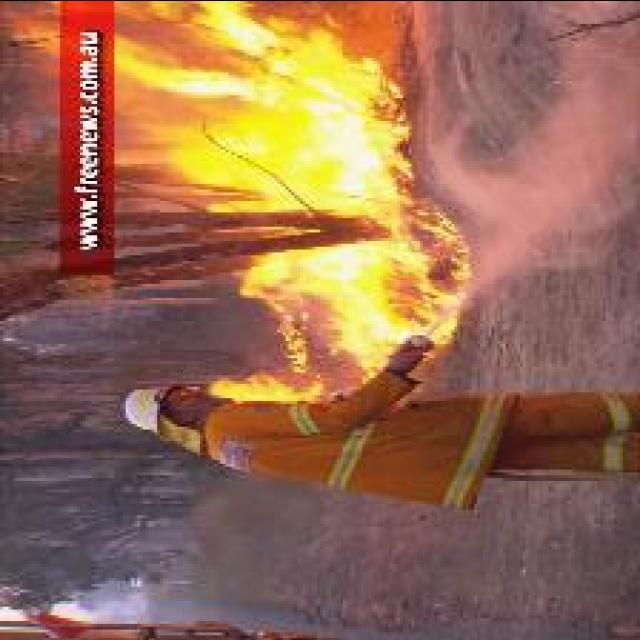Fire: (0, 0, 471, 383), (208, 373, 332, 401)
